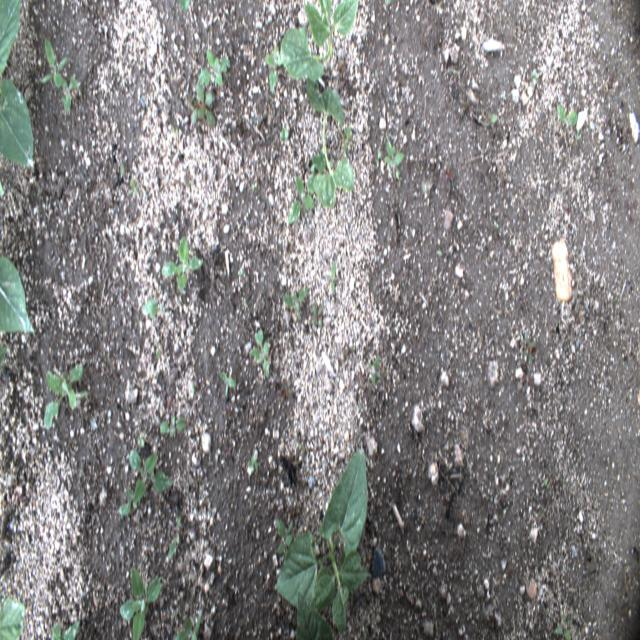crop: (271, 445, 373, 637), (304, 80, 354, 210), (284, 0, 364, 81), (0, 3, 32, 164), (0, 251, 38, 340), (1, 594, 28, 638)
weed: (118, 443, 176, 524), (188, 39, 232, 134), (116, 560, 167, 638), (159, 236, 206, 313), (37, 36, 81, 118), (41, 353, 87, 430), (284, 166, 321, 228), (109, 151, 141, 209), (374, 131, 406, 182), (281, 281, 311, 330), (245, 326, 272, 380), (174, 600, 206, 638), (262, 40, 285, 92), (556, 102, 583, 145), (520, 326, 544, 372), (217, 359, 240, 402), (166, 516, 185, 566), (132, 293, 162, 324), (160, 412, 188, 442), (309, 293, 328, 337), (49, 613, 82, 638), (475, 105, 502, 131), (324, 254, 340, 297), (554, 610, 578, 638), (366, 354, 384, 389), (276, 109, 291, 148), (439, 156, 459, 182), (246, 444, 260, 476), (340, 123, 354, 153), (529, 64, 544, 92), (152, 341, 166, 367), (135, 427, 152, 448), (0, 172, 10, 204), (179, 1, 194, 17), (0, 340, 7, 362)
